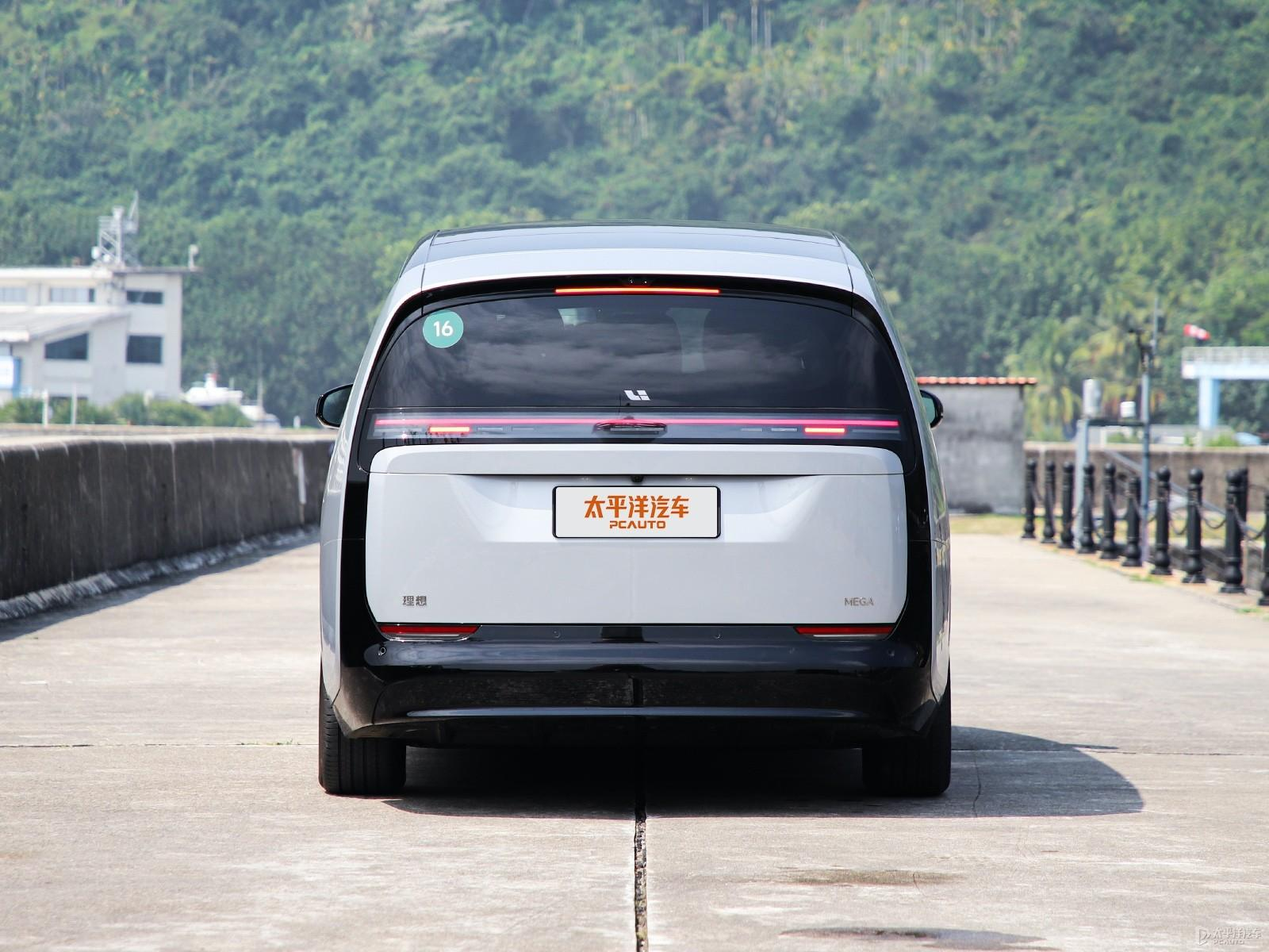Li Auto: (623, 389, 651, 402)
